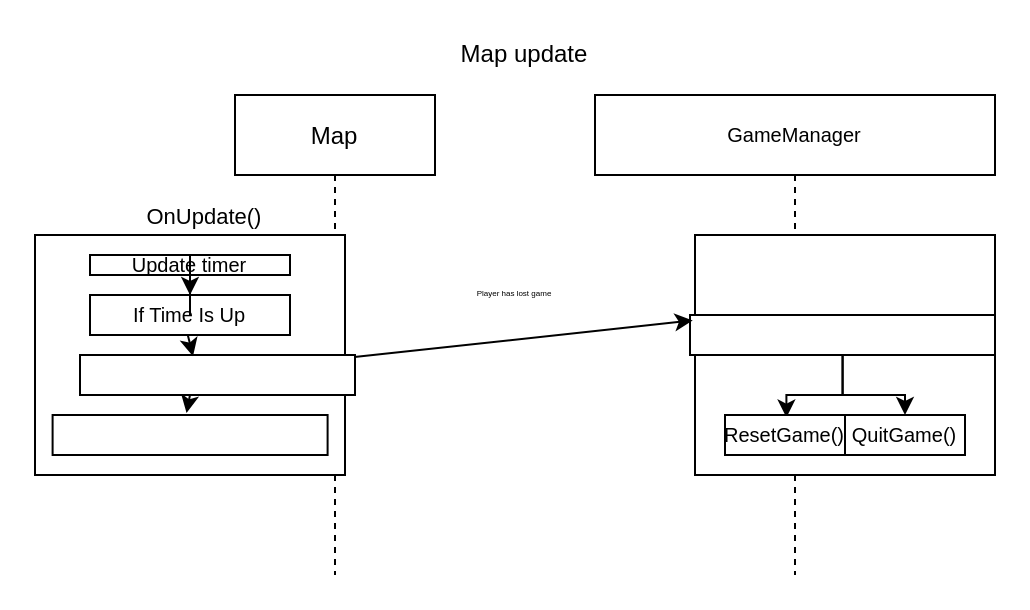
Some shapes in this 1030 by 610 pixel diagram are drawn without their labels. Here are the shapes that lost their labels. From the top down, the centre of each, then its label:
At (841,334): "ChangeMenu(GameOverMenu)".
At (216,374): "If player is not in crypt".
At (189,434): "else continue".
